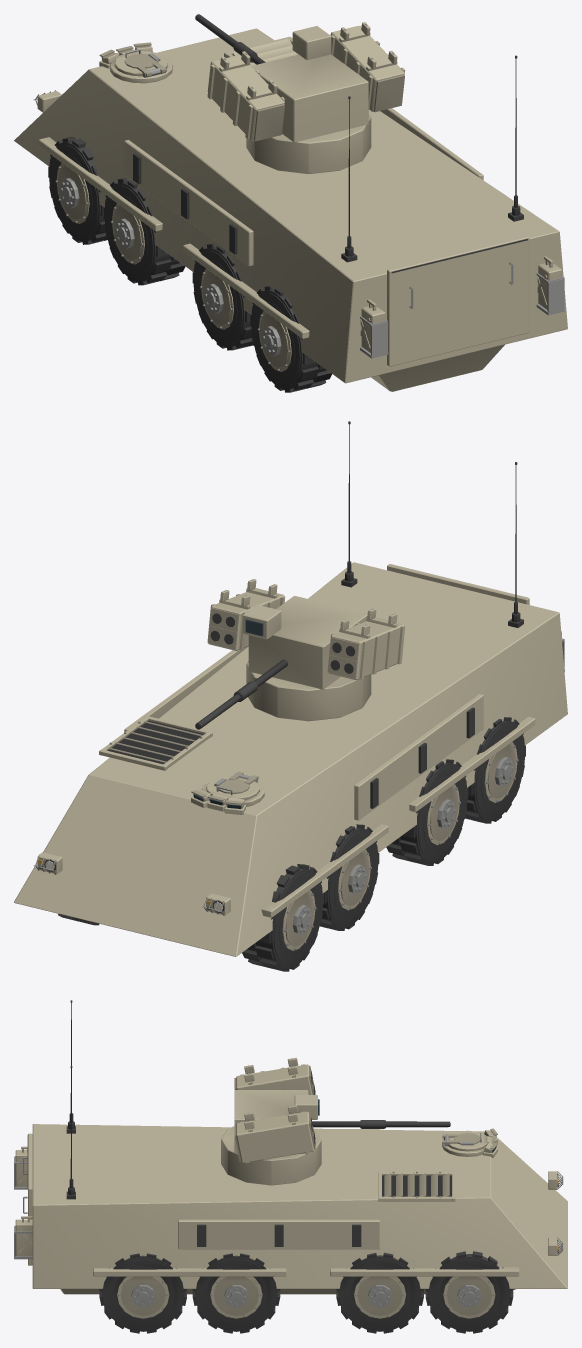
Rendered from usa_aa_shorad.glb.
3 renders of one model, top to bottom at view 1: azimuth 30°, elevation 25°; view 2: azimuth 150°, elevation 25°; view 3: azimuth 270°, elevation 25°, orthographic. The views are drawn at different scales.
Visible parts, largest first — view 1: body, door, turret, barrel, wheel_2, wheel_6, wheel_0, wheel_4; view 2: body, turret, barrel, wheel_0, wheel_4, wheel_6, wheel_2, door; view 3: body, barrel, turret, wheel_1, wheel_3, wheel_5, wheel_7, door.
Part boxes in pixels (left/top/right/bottom): body: left=14, top=28, right=567, bottom=391; door: left=387, top=235, right=529, bottom=366; turret: left=246, top=26, right=371, bottom=173; barrel: left=195, top=14, right=405, bottom=141; wheel_2: left=103, top=178, right=185, bottom=285; wheel_6: left=250, top=286, right=331, bottom=392; wheel_0: left=48, top=137, right=107, bottom=244; wheel_4: left=192, top=244, right=253, bottom=350; body: left=14, top=421, right=567, bottom=956; turret: left=242, top=595, right=371, bottom=721; barrel: left=195, top=579, right=405, bottom=729; wheel_0: left=242, top=864, right=323, bottom=971; wheel_4: left=386, top=759, right=468, bottom=865; wheel_6: left=465, top=717, right=525, bottom=823; wheel_2: left=319, top=824, right=379, bottom=930; door: left=387, top=564, right=529, bottom=604; body: left=14, top=1000, right=567, bottom=1294; barrel: left=234, top=1057, right=450, bottom=1163; turret: left=221, top=1090, right=321, bottom=1185; wheel_1: left=425, top=1251, right=513, bottom=1333; wheel_3: left=336, top=1252, right=423, bottom=1333; wheel_5: left=192, top=1253, right=280, bottom=1333; wheel_7: left=99, top=1253, right=186, bottom=1333; door: left=23, top=1133, right=32, bottom=1265.
Size of the model in its own units: 2.88 by 3.65 by 7.13.
